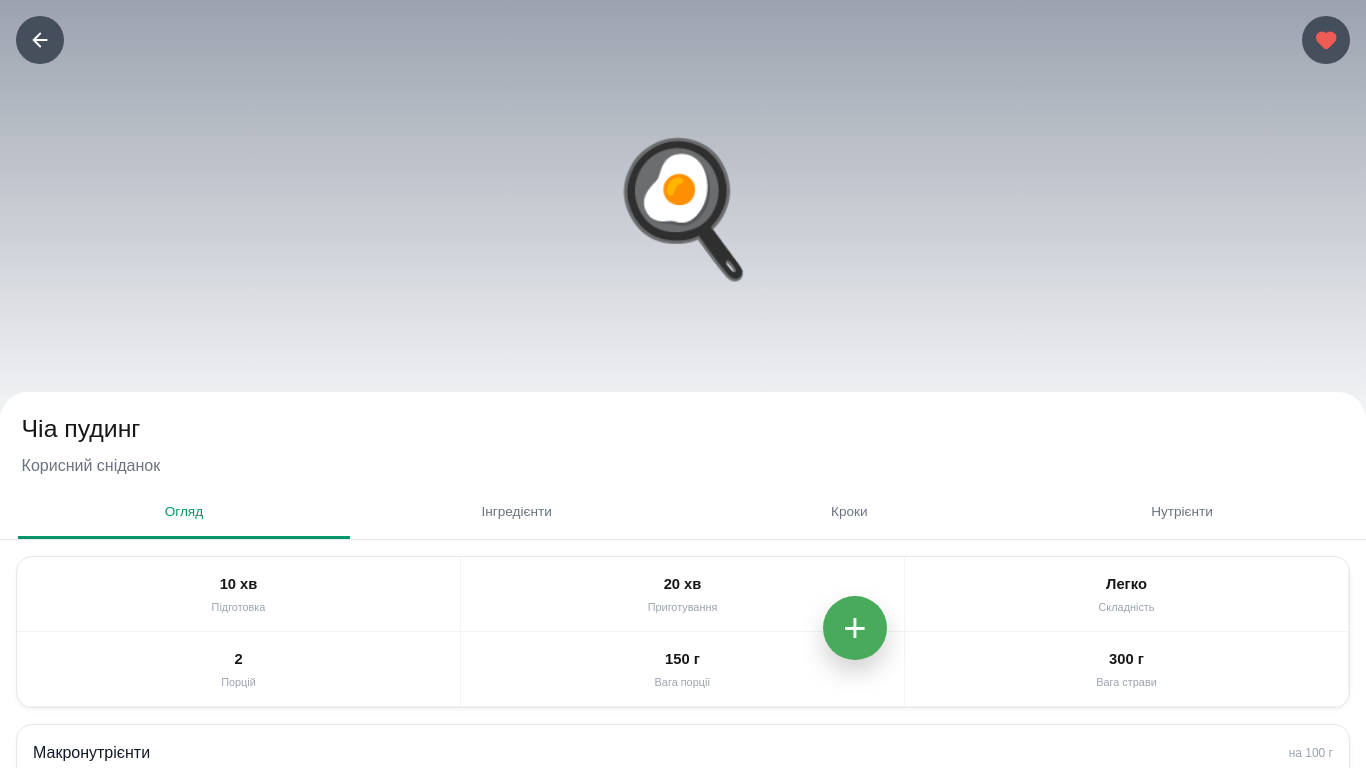
Test: FoodDetails › does not offer adding a recipe to a shopping list
Check: the heading "Чіа пудинг" is shown, box [22,415,140,442]
Step 1. Click the button named "Дії з рецептом" → coordinates (855, 628), box [823,596,887,660]
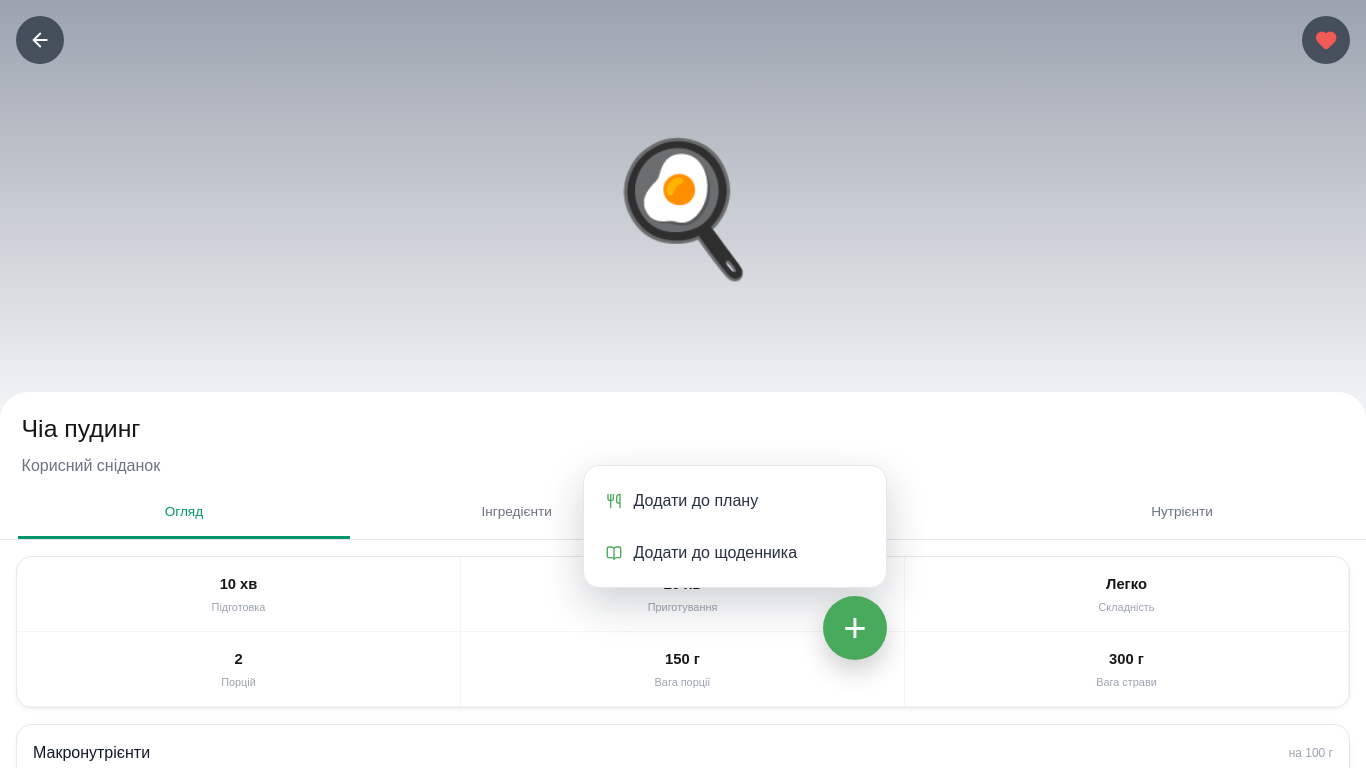
Check: the link "Додати до плану" is shown, box [606,489,758,513]
Check: the link "Додати до щоденника" is shown, box [606,541,797,565]
